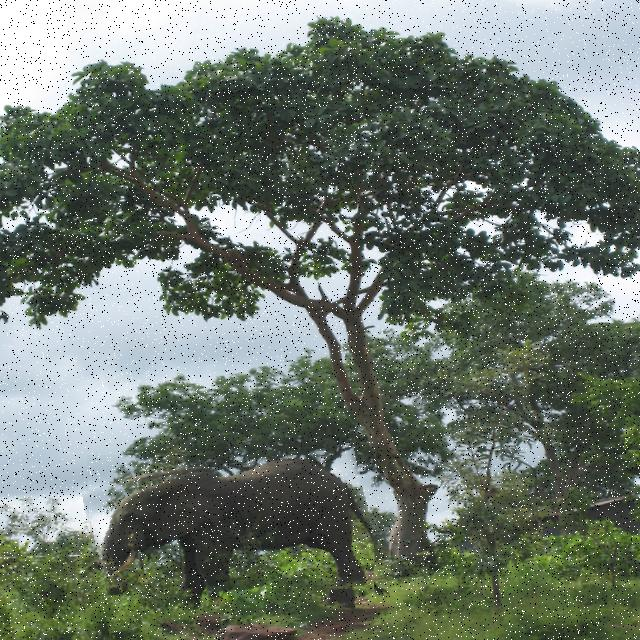elephant: (87, 455, 374, 621)
